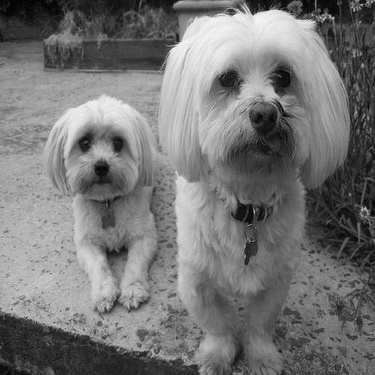dog: (130, 4, 357, 374), (31, 88, 173, 323)
